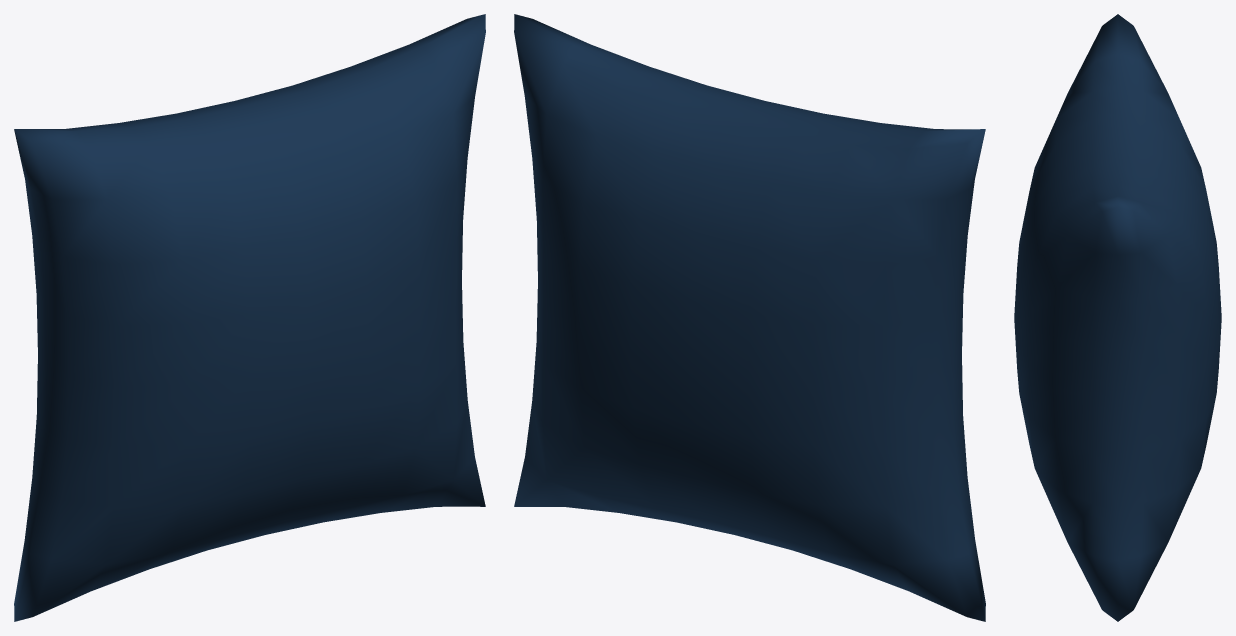
File: 71448e1d-35dd-400d-b69e-1e26bcf7e7b0.glb
3 renders of one model, left to right at view 1: azimuth 30°, elevation 25°; view 2: azimuth 150°, elevation 25°; view 3: azimuth 270°, elevation 25°, orthographic. The views are drawn at different scales.
Visible parts, largest first — view 1: StandardPillowNavy; view 2: StandardPillowNavy; view 3: StandardPillowNavy.
Boxes of the visible parts, bbox=[...] form: StandardPillowNavy: bbox=[14, 14, 485, 621]; StandardPillowNavy: bbox=[514, 14, 985, 621]; StandardPillowNavy: bbox=[1014, 14, 1221, 621].
Size of the model in its own units: 0.6356 by 0.6356 by 0.2884.
Materials: 1 (1 with a texture image).
